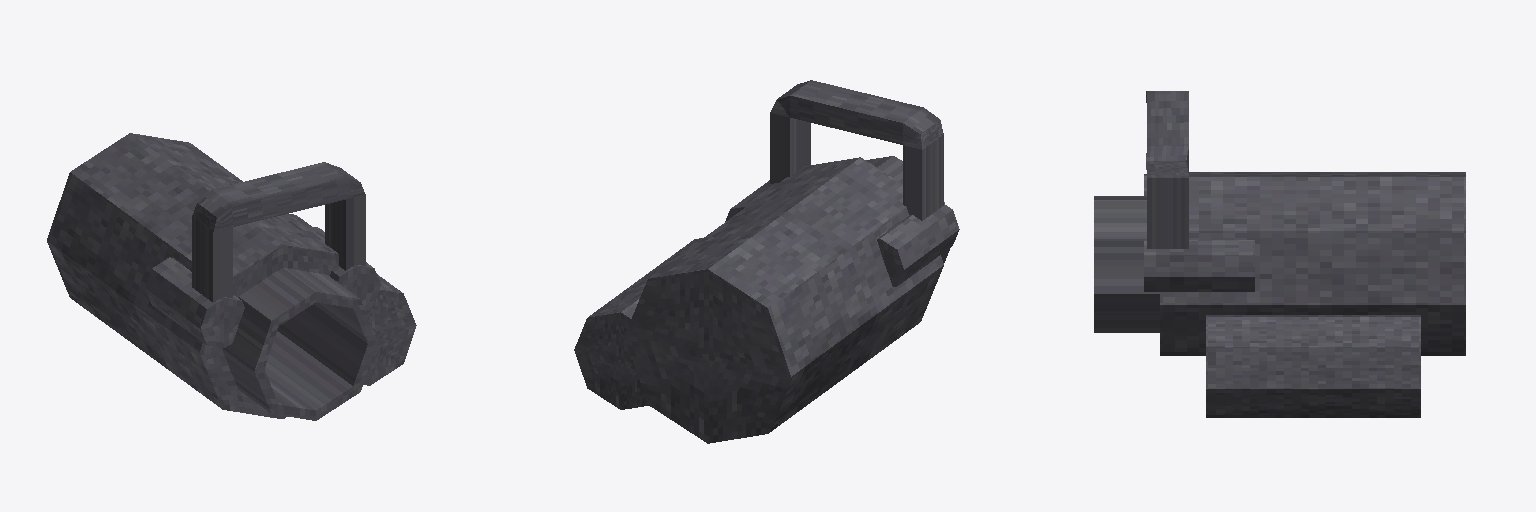
The picture shows the model from 3 angles: view 1: azimuth 30°, elevation 25°; view 2: azimuth 150°, elevation 25°; view 3: azimuth 270°, elevation 25°; orthographic projection.
Visible parts, largest first — view 1: MinigunBase_Cube.012; view 2: MinigunBase_Cube.012; view 3: MinigunBase_Cube.012.
Boxes of the visible parts, <box> form: MinigunBase_Cube.012: <box>47,133,416,420</box>; MinigunBase_Cube.012: <box>574,80,959,443</box>; MinigunBase_Cube.012: <box>1094,91,1465,417</box>.
Bounding box in the file's own units: 1.41 × 1.33 × 1.84.
Materials: 1 (1 with a texture image).